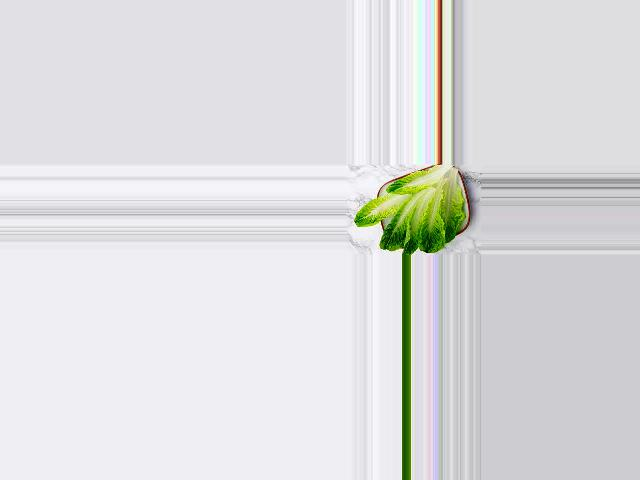lettuce: (352, 167, 471, 255)
